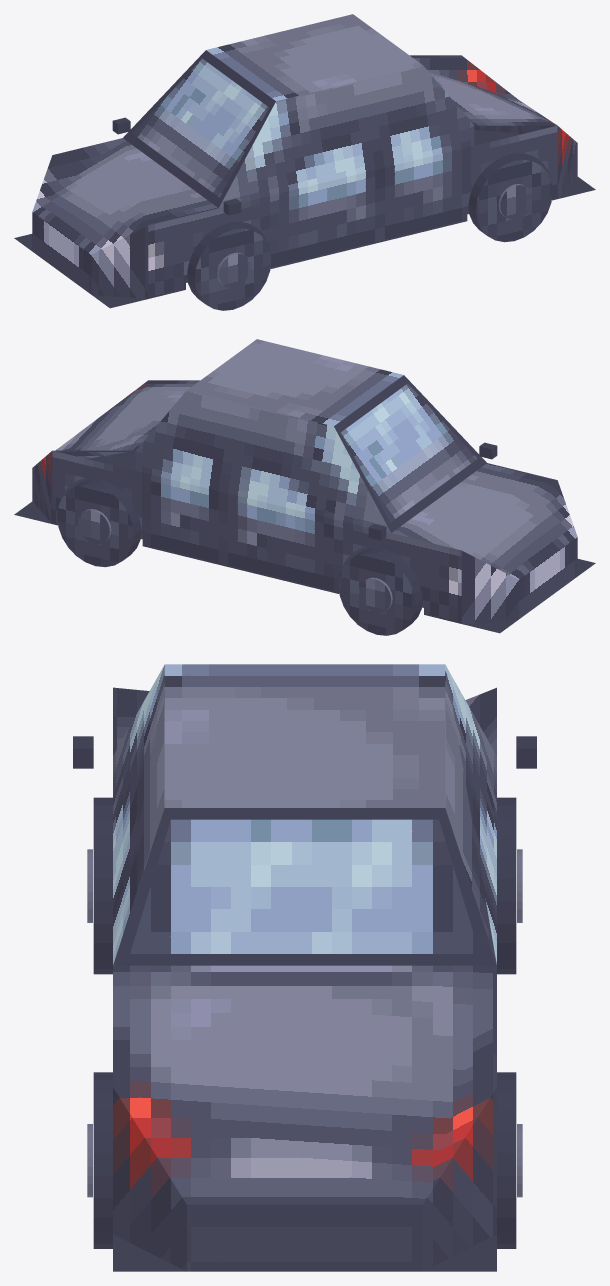
The model's file is unindexed-sedan-dark-v1.glb.
3 renders of one model, top to bottom at view 1: azimuth 30°, elevation 25°; view 2: azimuth 150°, elevation 25°; view 3: azimuth 270°, elevation 25°, orthographic. The views are drawn at different scales.
Visible parts, largest first — view 1: Passenger-body-east, Cabin-windows-east, Hood, Roof, Windshield-glass, Tire_FL, Tire_RL, Trunk, Front-corner--1, Windshield-frame, Front-fascia, Underfloor (+5 smaller); view 2: Passenger-body-west, Cabin-windows-west, Hood, Roof, Windshield-glass, Trunk, Tire_FR, Tire_RR, Front-corner-1, Windshield-frame, Front-fascia, Underfloor (+5 smaller); view 3: Trunk, Rear-window-glass, Roof, Rear-fascia, Rear-window-frame, Cabin-windows-east, Cabin-windows-west, Rear-corner-1, Rear-corner--1, Tire_FL, Tire_FR, Tire_RL (+3 smaller).
Part boxes in pixels (x1,y1,x2,y2): Passenger-body-east: [148, 125, 557, 298]; Cabin-windows-east: [219, 65, 474, 207]; Hood: [32, 138, 218, 254]; Roof: [206, 14, 422, 101]; Windshield-glass: [132, 58, 268, 197]; Tire_FL: [187, 222, 271, 310]; Tire_RL: [468, 154, 552, 242]; Trunk: [410, 55, 557, 125]; Front-corner--1: [91, 226, 148, 298]; Windshield-frame: [123, 50, 275, 207]; Front-fascia: [32, 211, 91, 294]; Underfloor: [14, 130, 595, 308]; Passenger-body-west: [52, 450, 461, 623]; Cabin-windows-west: [135, 390, 390, 532]; Hood: [391, 463, 577, 579]; Roof: [187, 339, 403, 426]; Windshield-glass: [341, 383, 477, 522]; Trunk: [53, 380, 199, 458]; Tire_FR: [338, 547, 422, 635]; Tire_RR: [57, 479, 141, 567]; Front-corner-1: [461, 551, 518, 623]; Windshield-frame: [334, 375, 486, 532]; Front-fascia: [518, 536, 577, 619]; Underfloor: [14, 455, 595, 633]; Trunk: [113, 965, 496, 1204]; Rear-window-glass: [130, 819, 479, 953]; Roof: [164, 664, 445, 807]; Rear-fascia: [187, 1204, 422, 1271]; Rear-window-frame: [113, 808, 496, 965]; Cabin-windows-east: [113, 665, 164, 964]; Cabin-windows-west: [445, 665, 496, 964]; Rear-corner-1: [423, 1087, 496, 1271]; Rear-corner--1: [113, 1087, 186, 1271]; Tire_FL: [93, 797, 112, 974]; Tire_FR: [497, 797, 516, 974]; Tire_RL: [93, 1072, 112, 1248].
Bounding box in the file's own units: 76 × 27 × 31.4.
Materials: 1 (1 with a texture image).
